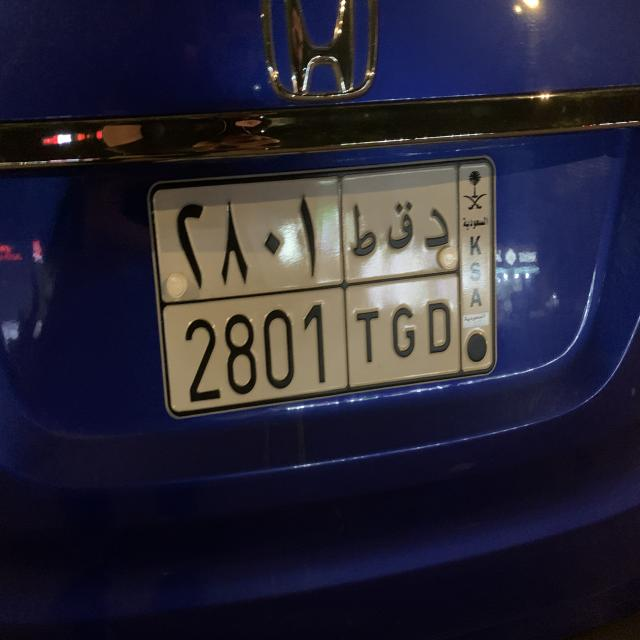license_plate: (143, 152, 501, 423)
